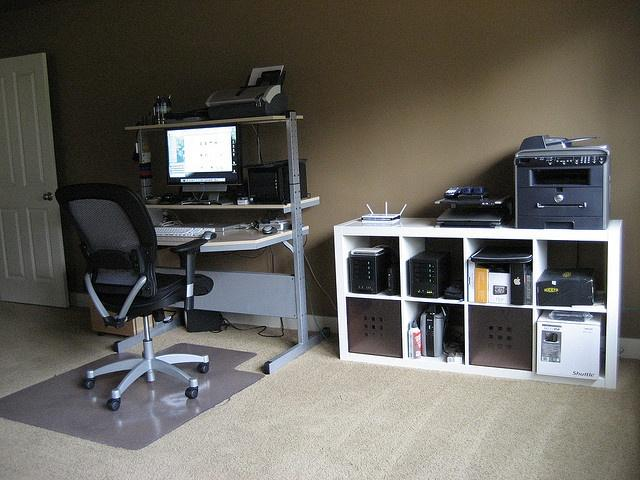AIO PC-Monitor-TV: (163, 124, 241, 191)
Kursi: (54, 182, 210, 411)
Printer: (205, 62, 287, 120)
Rak: (335, 225, 619, 388)
